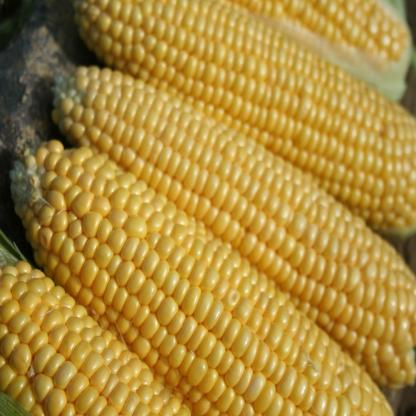---: (53, 52, 416, 393), (9, 132, 400, 416), (69, 0, 416, 244)
